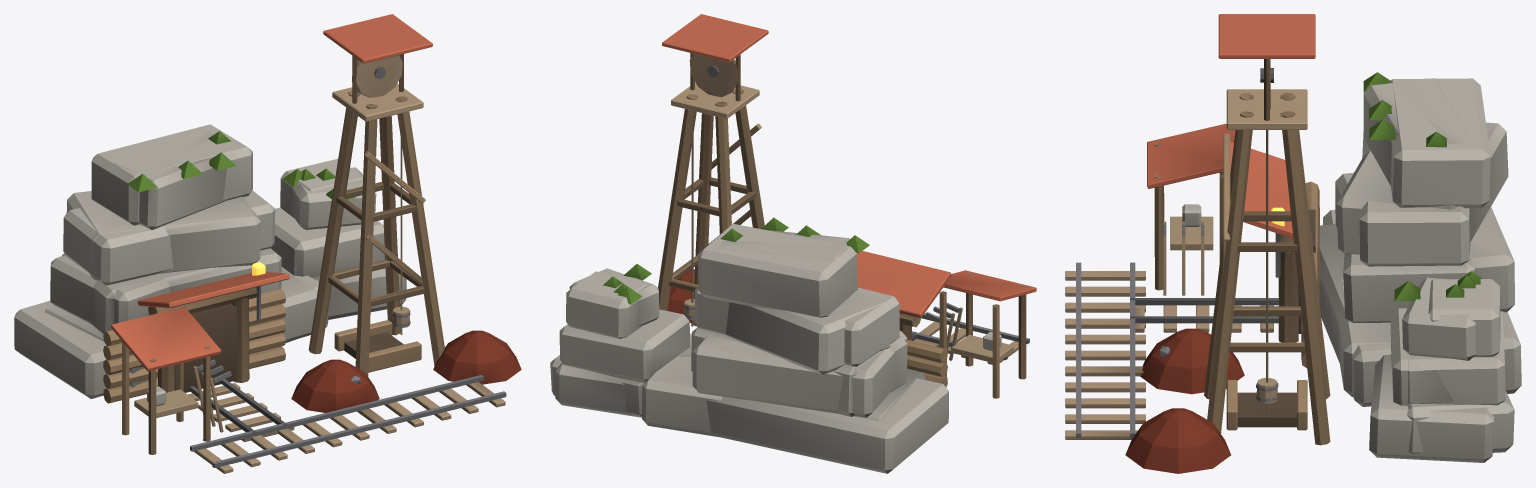
File: bld_rudnik.glb
3 views of the same model, side by side, from view 1: azimuth 30°, elevation 25°; view 2: azimuth 150°, elevation 25°; view 3: azimuth 270°, elevation 25° (orthographic). The views are drawn at different scales.
Visible parts, largest first — view 1: rudnik; view 2: rudnik; view 3: rudnik.
Part boxes in pixels (left/top/right/bottom): rudnik: left=14, top=14, right=521, bottom=473; rudnik: left=550, top=14, right=1036, bottom=473; rudnik: left=1065, top=14, right=1521, bottom=473.
Bounding box in the file's own units: 1.96 × 1.59 × 1.7.
